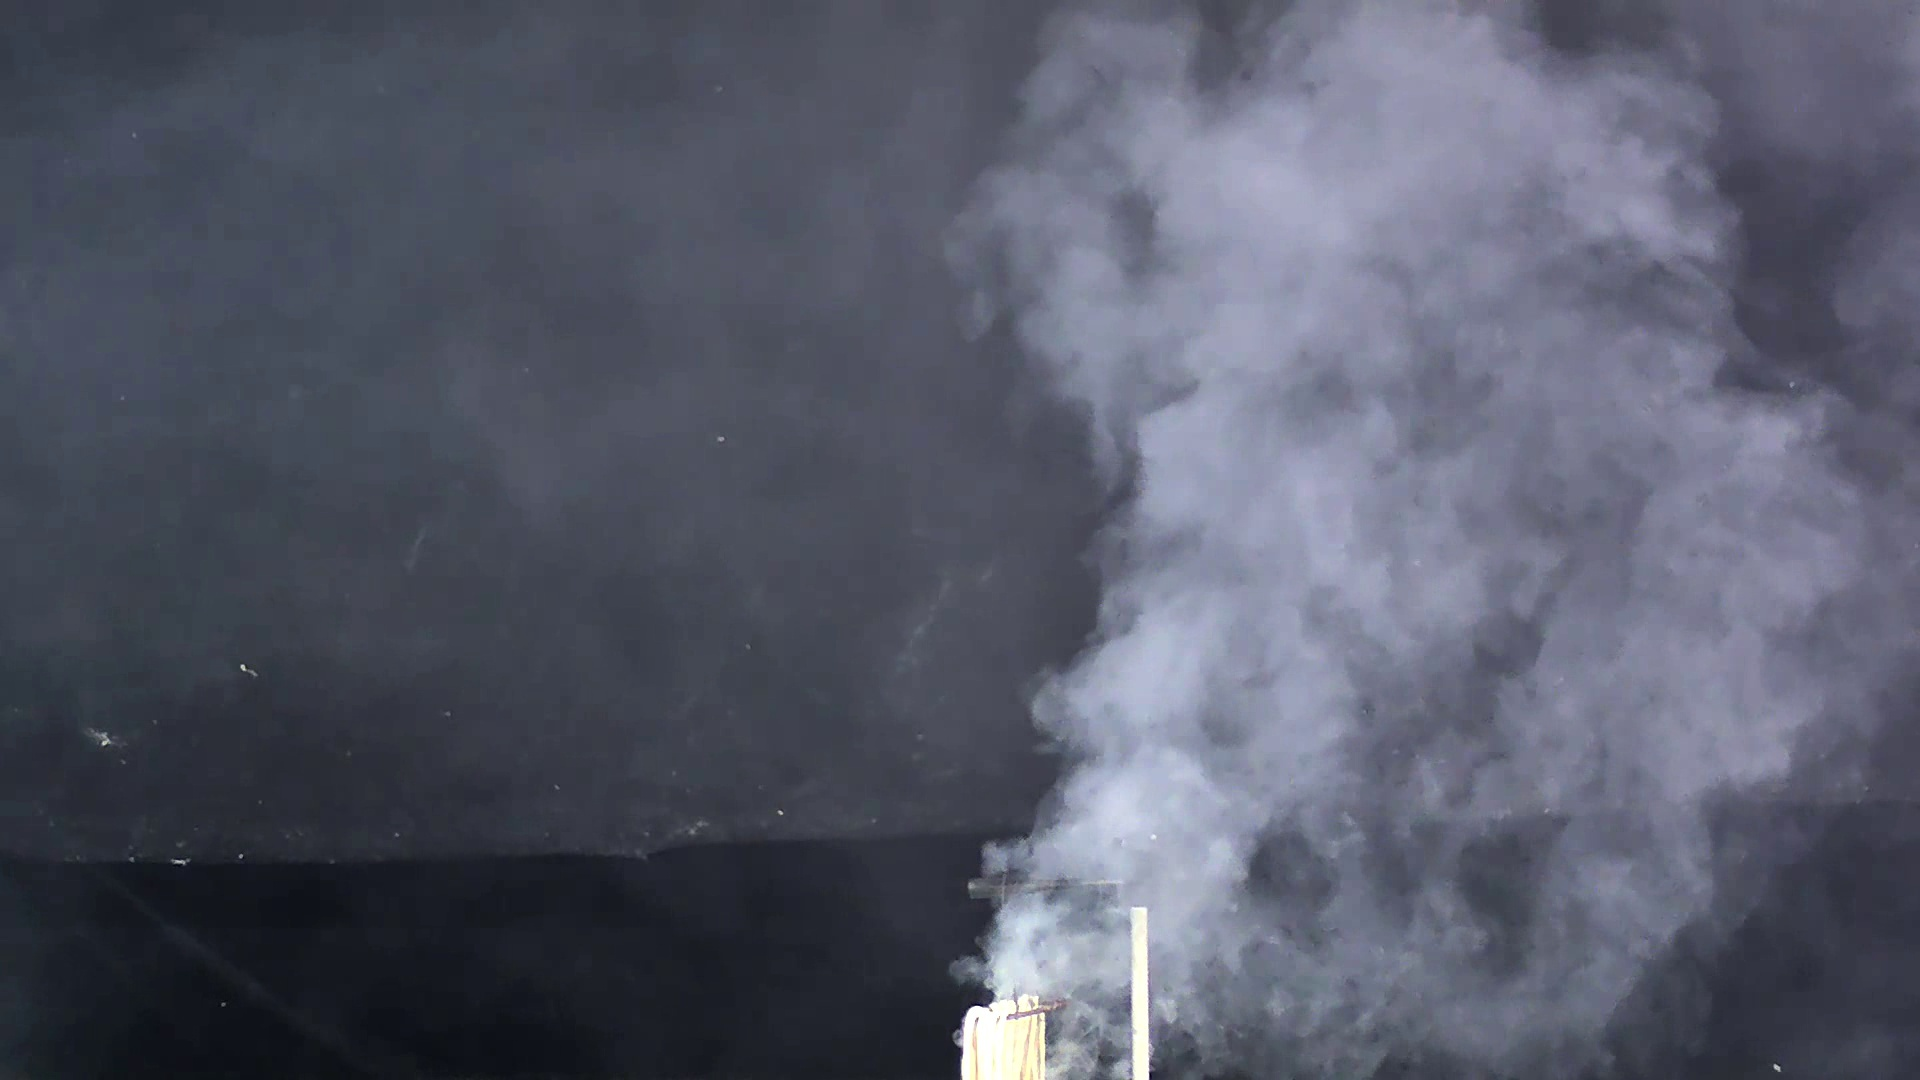smoke: (963, 11, 1833, 1055)
